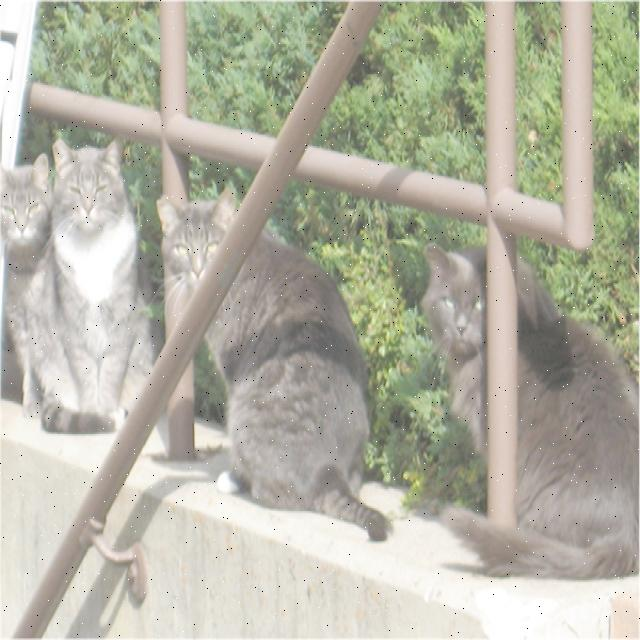cat: (445, 260, 638, 578), (205, 229, 389, 540), (30, 140, 154, 432), (0, 155, 52, 417), (422, 245, 485, 454), (158, 190, 235, 293)
